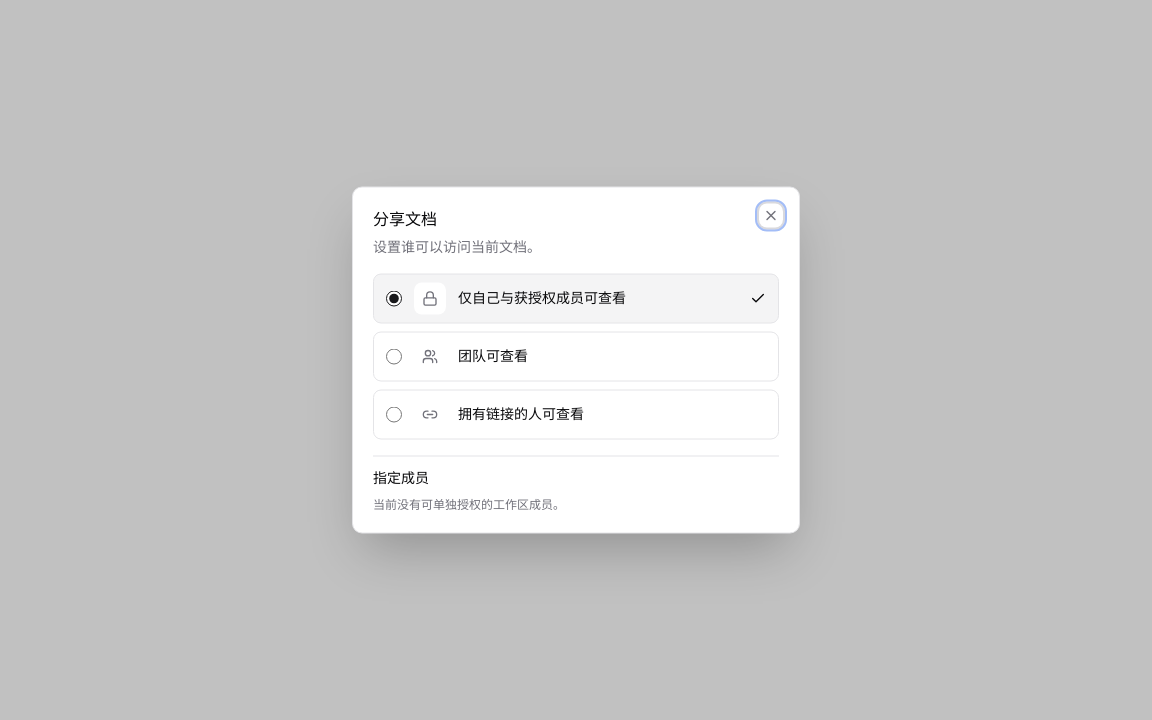
Test: SharePopover › creates a link with the default 24 hour expiration
Click the radio button labelled "拥有链接的人可查看".
click(394, 414)  # box top-left (386, 406), bottom-right (402, 422)
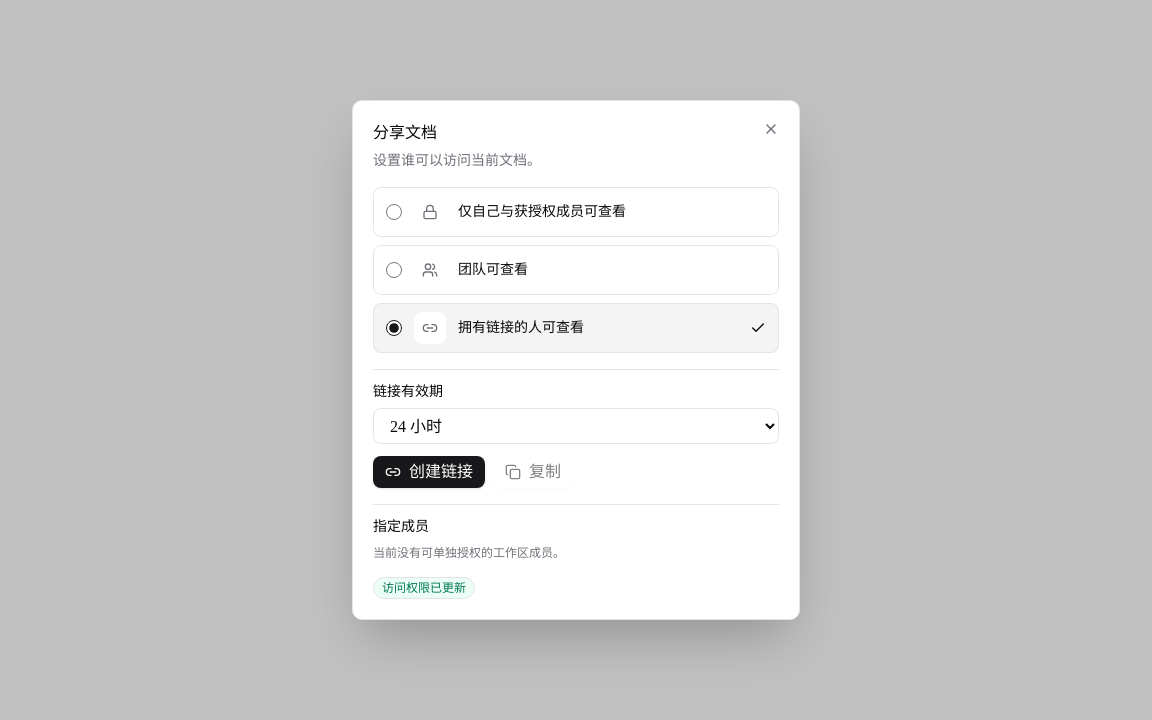
Check: the dropdown labelled "链接有效期" shows "24 小时", box top-left (373, 408), bottom-right (779, 444)
Click the button with aria-label "创建分享链接".
click(429, 472)  # box top-left (373, 456), bottom-right (485, 488)
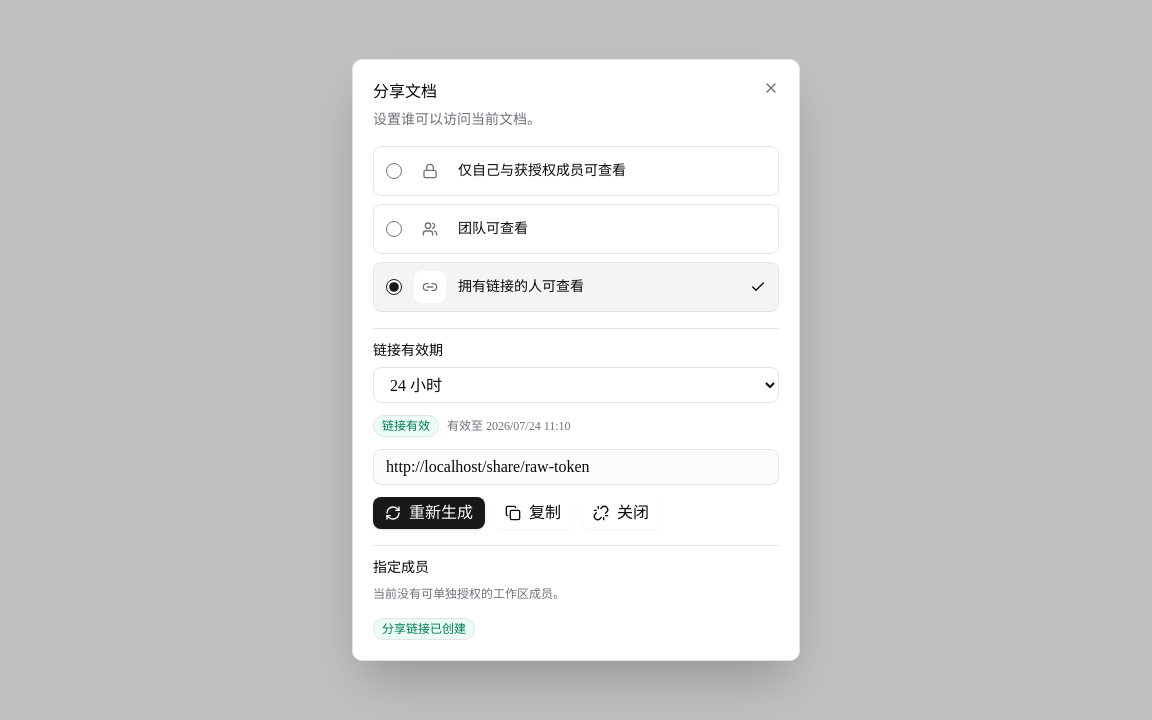
Check: the field named "分享链接" holds "http://localhost/share/raw-token", box top-left (373, 449), bottom-right (779, 485)
Check: the button with aria-label "复制分享链接" is enabled, box top-left (493, 497), bottom-right (573, 529)
